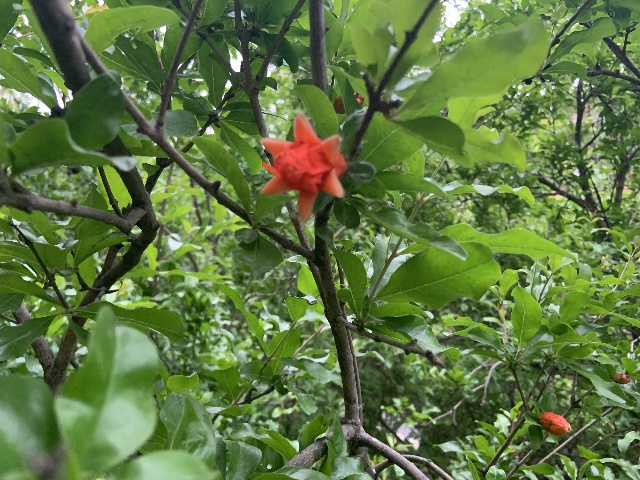bud: (539, 410, 571, 436), (333, 90, 366, 113), (612, 373, 630, 383)
flower: (259, 113, 346, 221)
